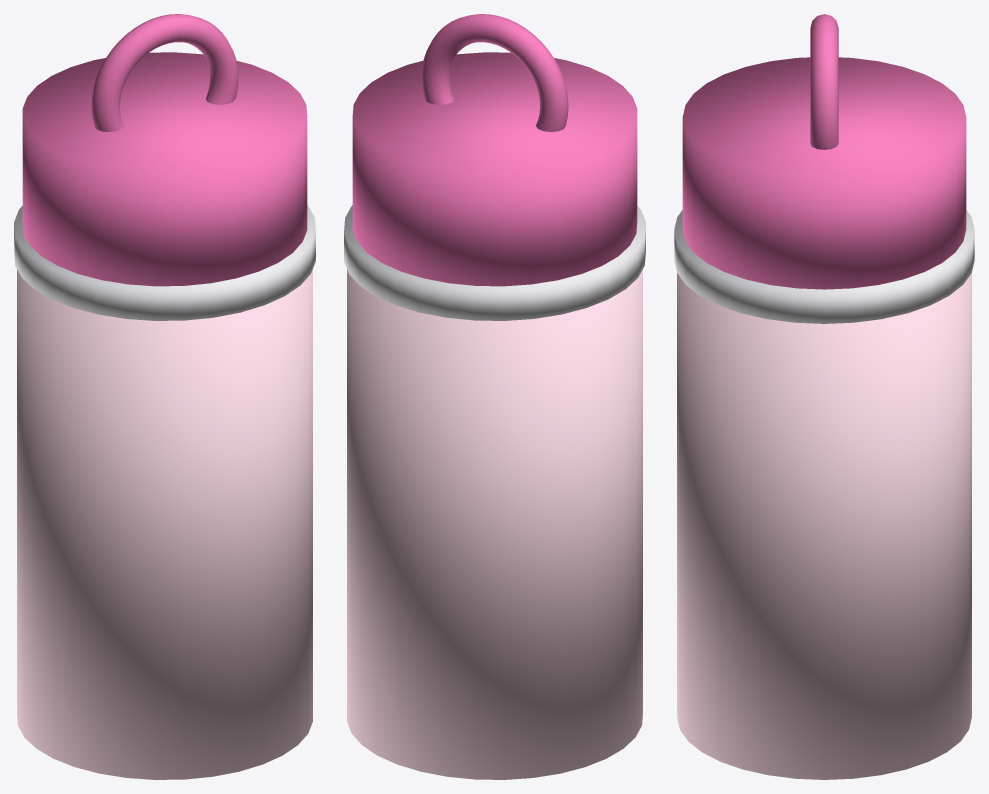
File: sanrio_bottle.glb
3 views of the same model, side by side, from view 1: azimuth 30°, elevation 25°; view 2: azimuth 150°, elevation 25°; view 3: azimuth 270°, elevation 25° (orthographic).
Parts seen in each view (by area): view 1: SanrioBottle; view 2: SanrioBottle; view 3: SanrioBottle.
Part boxes in pixels (bbox=[...]): SanrioBottle: bbox=[14, 14, 315, 779]; SanrioBottle: bbox=[344, 14, 645, 779]; SanrioBottle: bbox=[674, 14, 974, 779].
Size of the model in its own units: 0.53 by 1.35 by 0.53.
